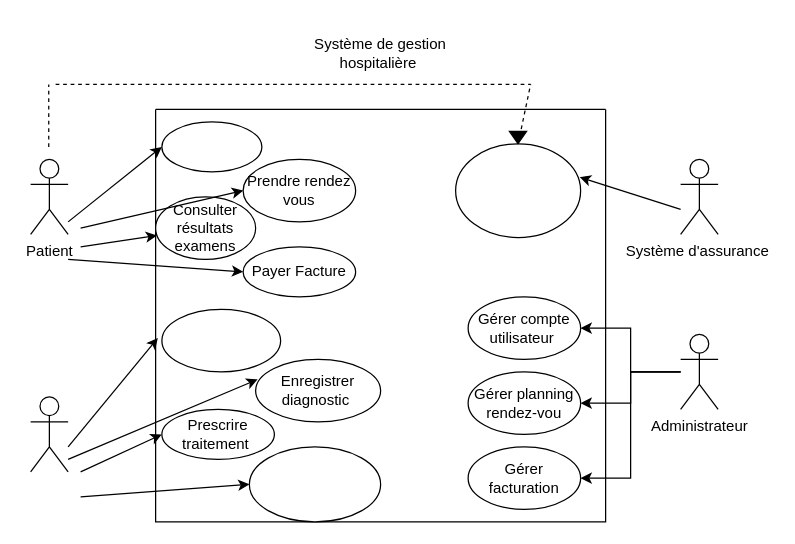
Some shapes in this 795 by 544 pixel diagram are drawn without their labels. Each missing label, with the centre of its shape:
Consulter dossier du patient: (x=221, y=340)
Créer dossier médical: (x=211, y=146)
Demander examen complémentaire: (x=314, y=484)
Médécin: (x=48, y=434)
Vérifier couverture patient: (x=517, y=190)
